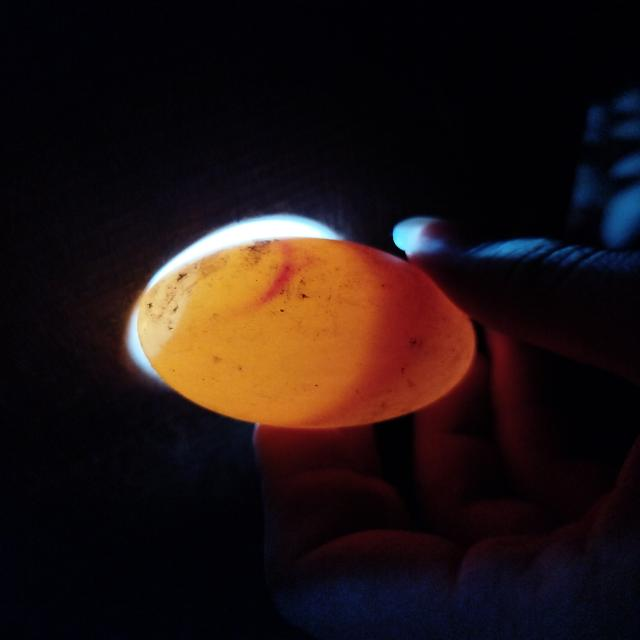Camara de Ar: (137, 267, 190, 357)
Gema Quebrada: (306, 241, 436, 424)
